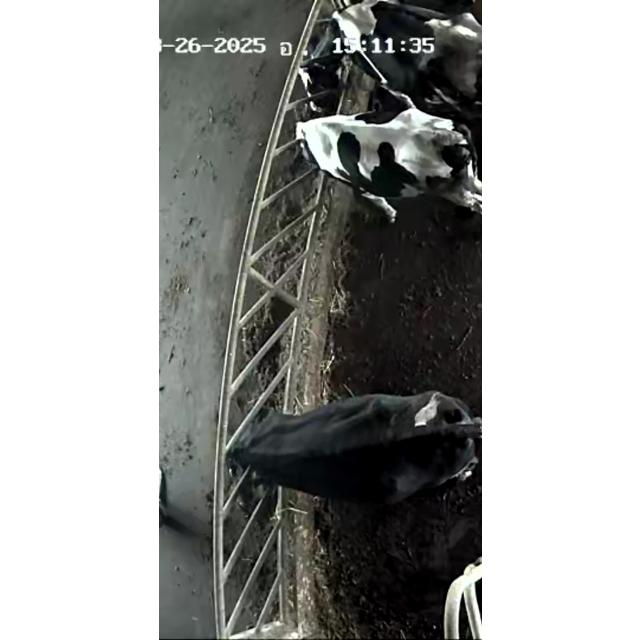eat: (267, 2, 419, 106), (189, 391, 329, 487), (237, 111, 383, 182)
